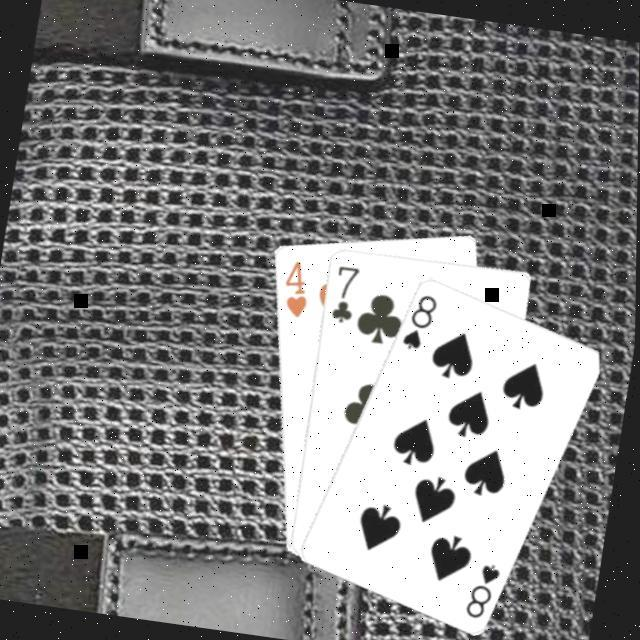4H: (275, 256, 315, 322)
7C: (326, 262, 363, 327)
8S: (398, 289, 441, 356), (462, 558, 505, 624)
